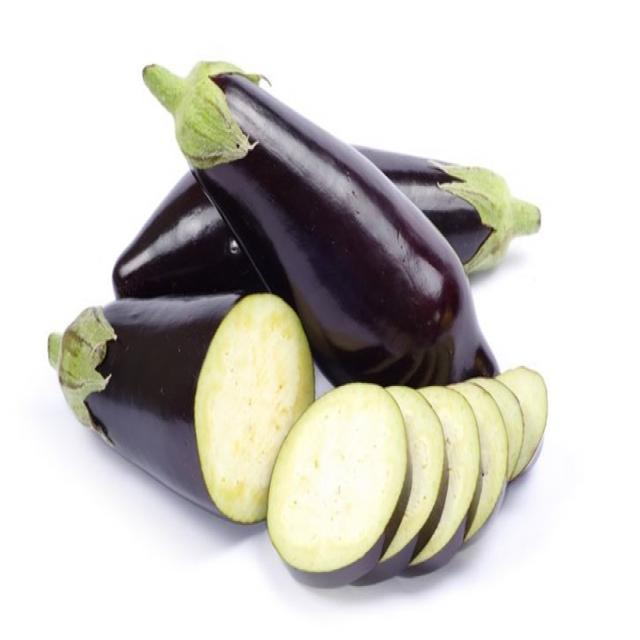eggplant: (47, 255, 332, 552), (258, 346, 574, 605)
